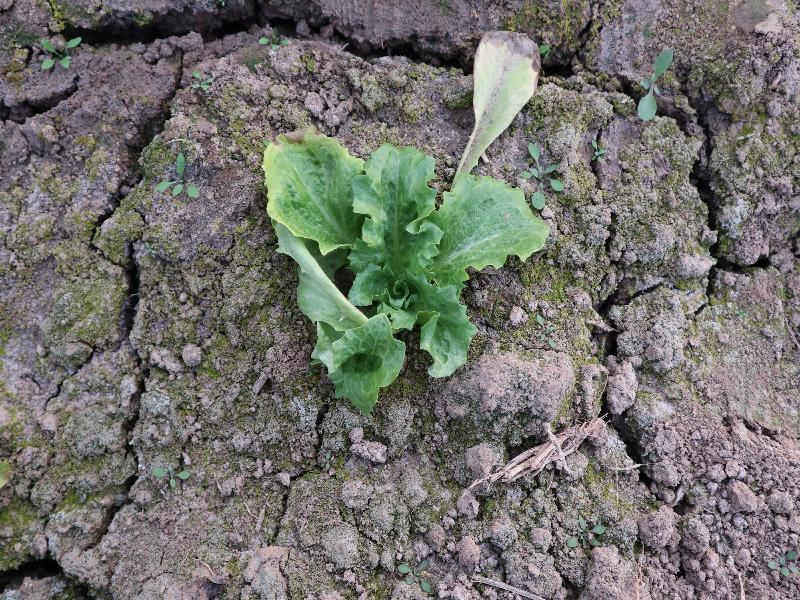lettuce: (260, 29, 550, 417)
